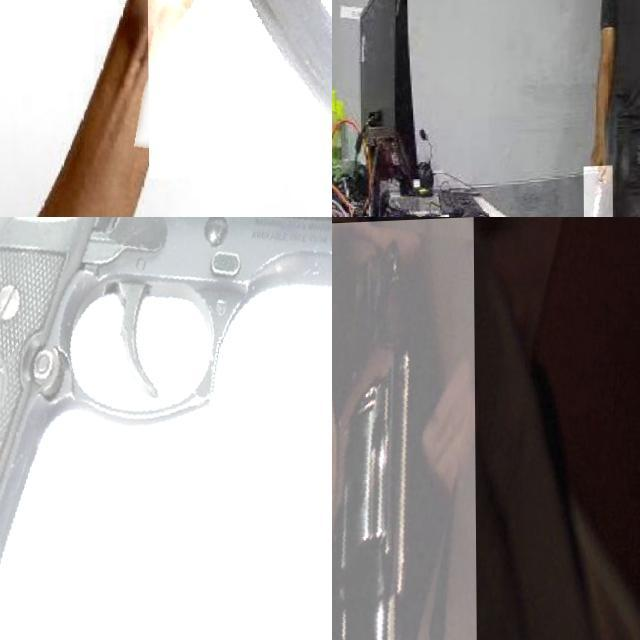-: (146, 0, 332, 203), (582, 168, 612, 217)
gun-knife-thesis - v11 Yolov5 augmented: (0, 217, 332, 640), (332, 220, 476, 640)
